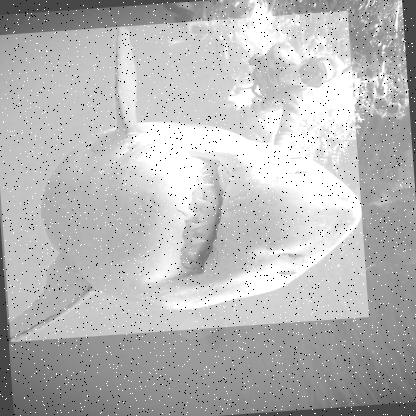white-shark: (0, 10, 369, 343)
